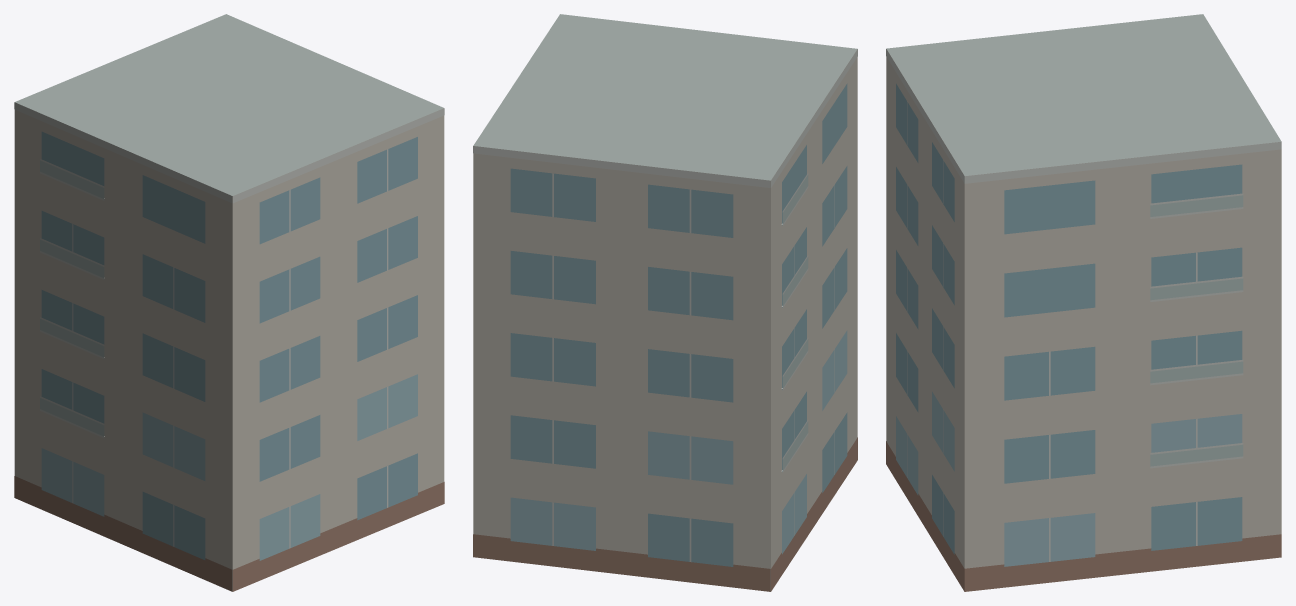
The model's file is survey-upis-32715899.glb.
3 renders of one model, left to right at view 1: azimuth 30°, elevation 25°; view 2: azimuth 150°, elevation 25°; view 3: azimuth 270°, elevation 25°, orthographic. The views are drawn at different scales.
Parts seen in each view (by area): view 1: survey-upis-32715899.tmp; view 2: survey-upis-32715899.tmp; view 3: survey-upis-32715899.tmp.
Part boxes in pixels (bbox=[...]): survey-upis-32715899.tmp: bbox=[14, 14, 444, 591]; survey-upis-32715899.tmp: bbox=[473, 14, 857, 591]; survey-upis-32715899.tmp: bbox=[886, 14, 1281, 591].
Bounding box in the file's own units: 11.1 × 13.25 × 11.44.
